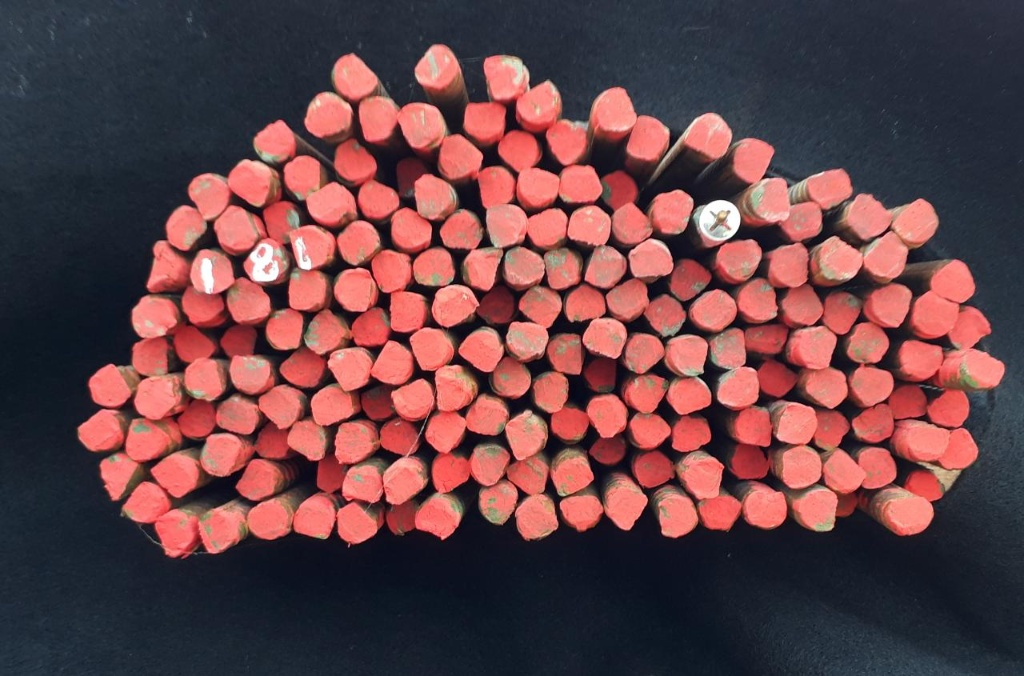dipstick: (684, 112, 732, 160), (624, 113, 671, 162), (305, 181, 357, 224), (862, 229, 909, 276), (484, 54, 530, 102), (151, 453, 199, 499), (396, 103, 442, 150), (332, 54, 379, 100), (135, 375, 182, 420), (514, 495, 559, 541), (131, 295, 177, 340), (691, 286, 738, 330), (415, 42, 459, 89), (304, 94, 352, 137), (430, 284, 479, 326), (121, 480, 170, 522), (337, 222, 382, 267), (190, 248, 235, 293), (892, 198, 938, 242), (434, 365, 478, 411), (228, 160, 271, 207), (77, 408, 124, 451), (155, 510, 195, 560), (914, 290, 959, 334), (848, 194, 893, 238), (334, 267, 378, 312), (328, 348, 373, 392), (287, 225, 330, 271), (214, 204, 257, 250), (546, 119, 586, 168), (227, 279, 271, 323), (459, 329, 504, 372), (243, 237, 288, 280), (506, 414, 548, 460), (165, 205, 207, 251), (125, 419, 171, 461), (99, 453, 140, 500), (517, 80, 561, 123), (440, 135, 483, 179), (411, 328, 455, 371), (303, 310, 346, 354), (227, 352, 271, 395), (88, 363, 131, 407), (717, 240, 762, 282), (586, 395, 628, 440), (391, 203, 433, 248), (293, 494, 335, 539), (254, 119, 296, 164), (824, 448, 865, 494), (666, 260, 713, 300), (932, 260, 975, 303), (371, 340, 414, 383), (335, 139, 378, 182), (198, 433, 241, 476), (846, 323, 890, 365), (804, 367, 848, 409), (820, 237, 862, 281), (643, 294, 687, 336), (610, 202, 654, 244), (584, 244, 626, 288), (519, 285, 563, 327), (370, 248, 412, 292), (257, 387, 301, 429), (807, 167, 852, 208), (357, 97, 398, 142), (628, 239, 674, 279), (197, 508, 237, 554), (279, 347, 326, 386), (595, 88, 637, 131), (461, 246, 503, 289), (950, 308, 991, 352), (926, 387, 970, 428), (733, 139, 774, 183), (654, 189, 694, 234), (216, 394, 261, 434), (776, 402, 818, 444), (871, 284, 912, 327), (793, 489, 836, 530), (751, 178, 792, 221), (781, 444, 822, 487), (583, 318, 626, 359), (906, 420, 950, 460), (715, 368, 760, 407), (857, 446, 898, 488), (507, 320, 549, 361), (391, 378, 433, 419), (337, 503, 378, 545), (311, 385, 353, 426), (744, 489, 787, 529), (559, 164, 602, 204), (567, 206, 610, 246), (606, 278, 649, 318), (470, 444, 510, 487), (486, 204, 526, 247), (334, 421, 374, 464), (887, 498, 933, 535), (739, 280, 780, 321), (182, 359, 223, 400), (498, 129, 538, 171), (463, 101, 505, 141), (961, 350, 1004, 389), (698, 494, 741, 533), (189, 176, 228, 219), (849, 367, 893, 405), (524, 208, 568, 246), (800, 325, 837, 370), (172, 327, 218, 363), (902, 339, 943, 379), (782, 285, 823, 325), (466, 395, 507, 435), (479, 483, 518, 525), (342, 465, 384, 504), (288, 267, 327, 309), (246, 501, 288, 540), (852, 404, 895, 442), (148, 243, 186, 286), (772, 241, 807, 287), (692, 206, 732, 246), (658, 496, 698, 536), (287, 420, 327, 460), (505, 246, 546, 285), (781, 202, 823, 240), (671, 334, 709, 376), (669, 376, 711, 414), (507, 456, 549, 494), (182, 283, 224, 321), (519, 169, 562, 206), (414, 175, 449, 220), (756, 358, 796, 397), (708, 328, 747, 368), (629, 373, 668, 413), (599, 171, 638, 211), (609, 490, 648, 530), (383, 465, 423, 504), (359, 178, 399, 217), (735, 406, 773, 447), (414, 248, 455, 286), (553, 458, 595, 495), (415, 499, 457, 536), (236, 462, 278, 499), (546, 331, 582, 374), (560, 495, 603, 531), (263, 201, 299, 244), (731, 441, 770, 480), (626, 333, 665, 372), (351, 307, 390, 346), (684, 458, 722, 498), (630, 411, 670, 449), (566, 284, 606, 322), (427, 413, 467, 451), (941, 428, 978, 469), (389, 289, 425, 331), (493, 358, 531, 397), (432, 454, 470, 493), (381, 418, 420, 456), (178, 397, 215, 437), (671, 417, 712, 453), (812, 410, 850, 448), (265, 310, 303, 348), (823, 294, 860, 333), (477, 288, 516, 325), (254, 421, 293, 458), (478, 166, 515, 204), (133, 337, 169, 376), (544, 248, 579, 288), (744, 322, 787, 354), (889, 383, 927, 419), (635, 452, 674, 487), (534, 372, 568, 412), (551, 408, 590, 440), (285, 156, 322, 189), (906, 469, 945, 500), (315, 453, 345, 493), (221, 323, 256, 356), (395, 159, 427, 195), (363, 384, 394, 420), (585, 360, 618, 392), (589, 435, 625, 463), (387, 501, 416, 534), (831, 491, 857, 516)
